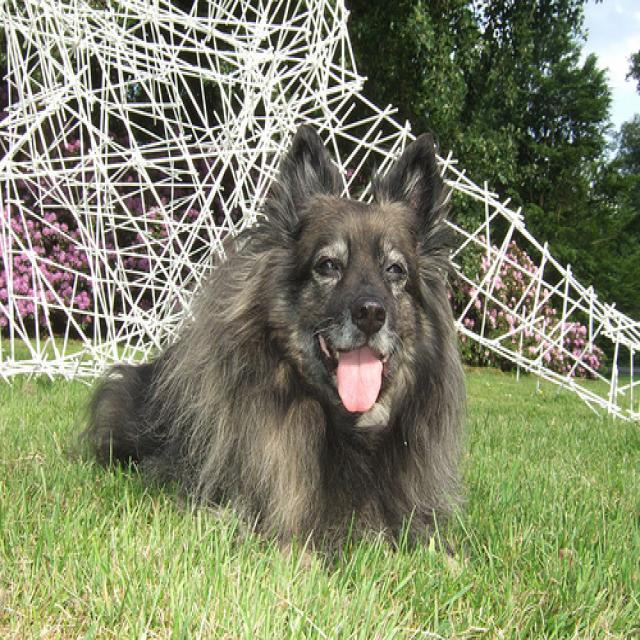dog-keeshond: (52, 116, 479, 582)
